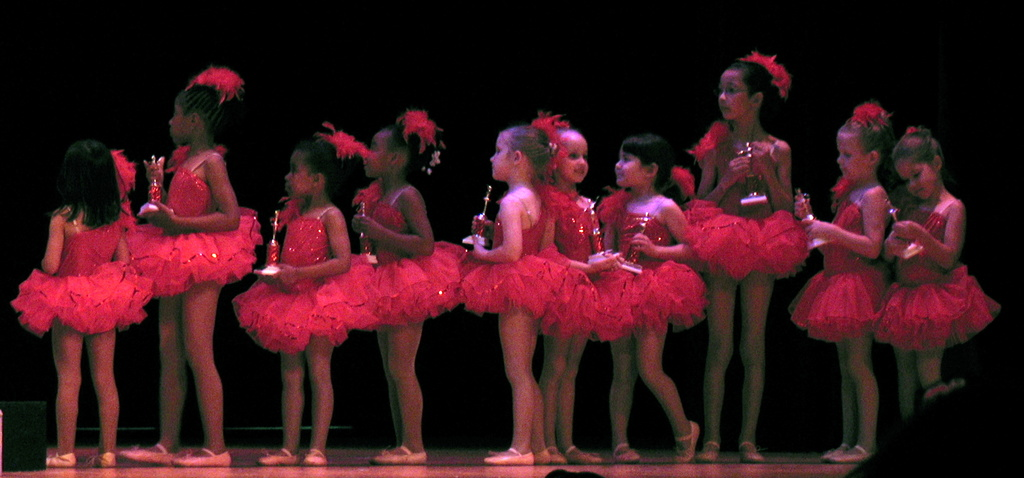Person: (9, 48, 1001, 467)
